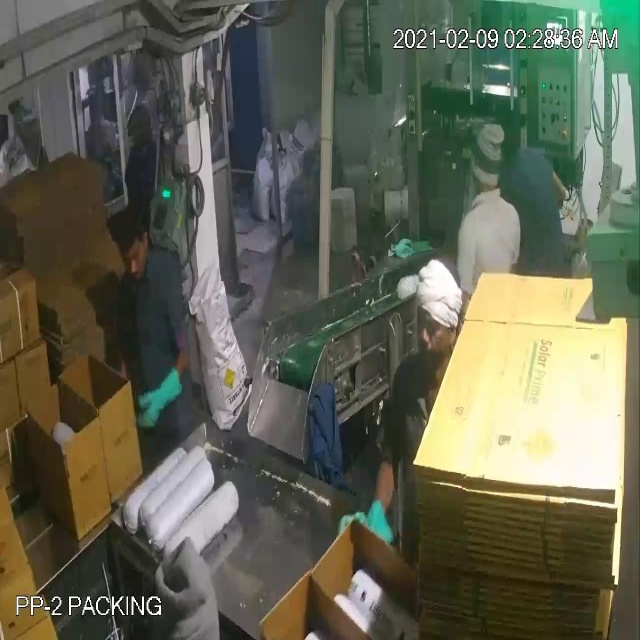Guantes: (136, 364, 185, 434)
